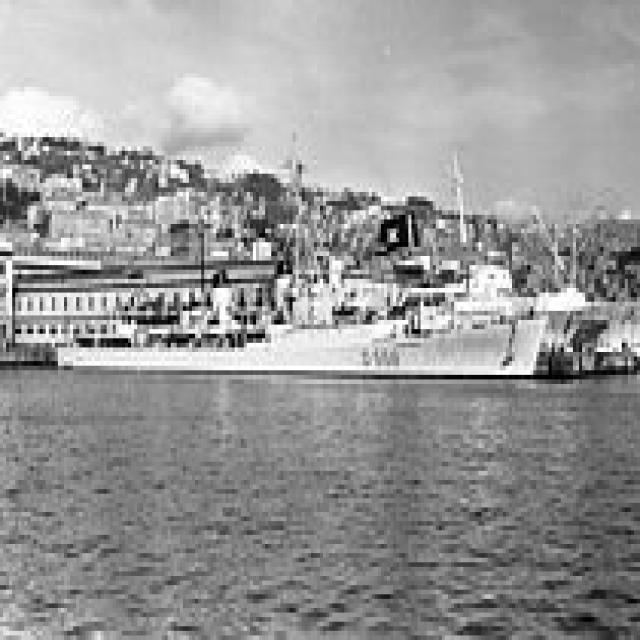Warship: (52, 137, 545, 375)
